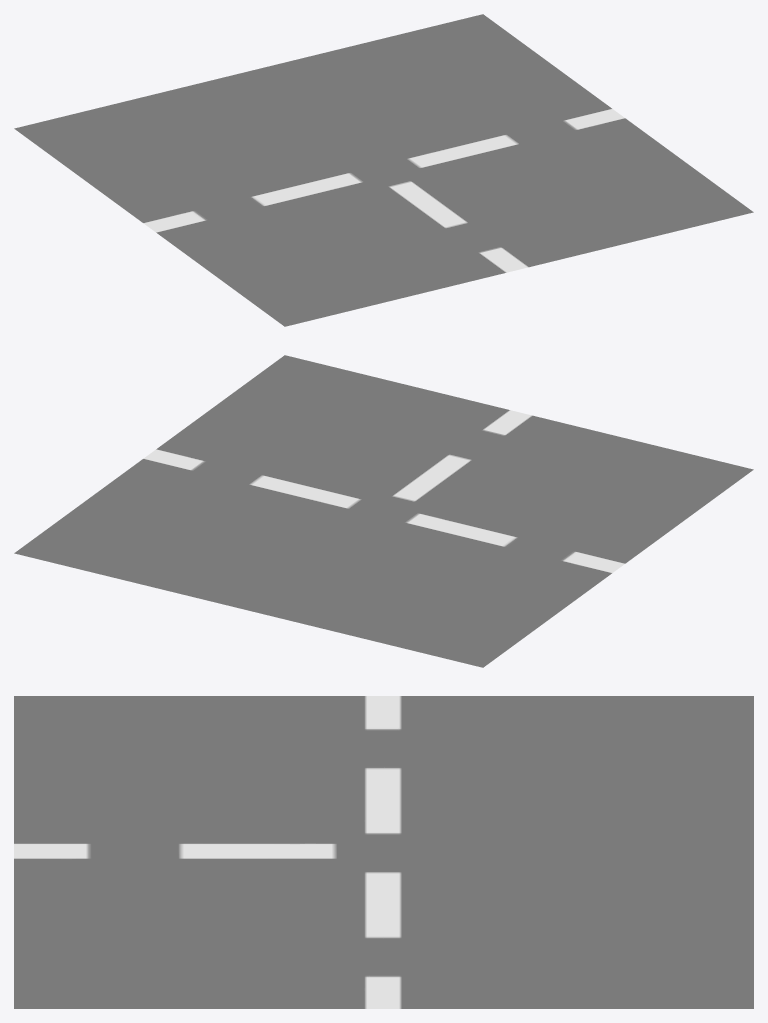
The model's file is StreetCrossing2.glb.
The picture shows the model from 3 angles, top to bottom: view 1: azimuth 30°, elevation 25°; view 2: azimuth 150°, elevation 25°; view 3: azimuth 270°, elevation 25°; orthographic projection. The views are drawn at different scales.
Visible parts, largest first — view 1: StreetLines.002; view 2: StreetLines.002; view 3: StreetLines.002.
Boxes of the visible parts, x1,y1,x2,y2 form: StreetLines.002: (14, 14, 753, 326); StreetLines.002: (14, 355, 753, 667); StreetLines.002: (14, 696, 753, 1008).
Size of the model in its own units: 2 by 0 by 2.
Materials: 1 (1 with a texture image).
